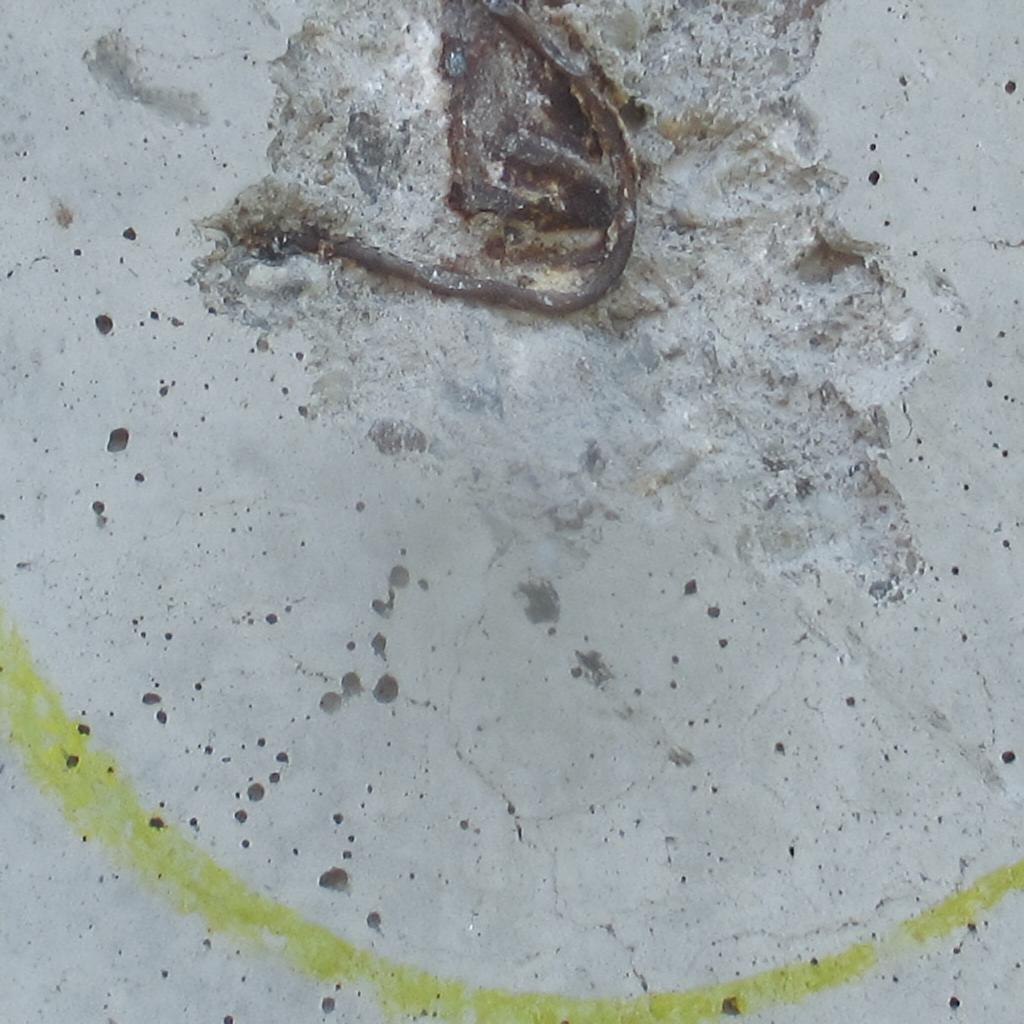exposed_rebar: (282, 0, 636, 312)
spalling: (196, 0, 918, 603)
